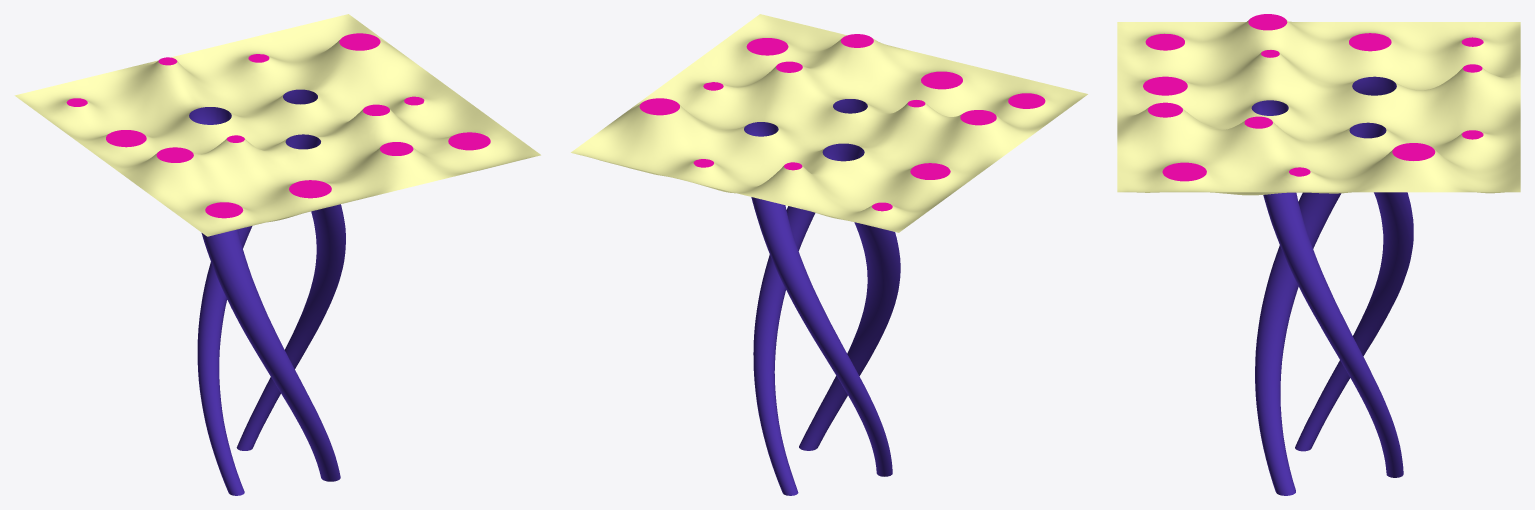
The model's file is Roof_03_columns_simple.fbx.
3 renders of one model, left to right at view 1: azimuth 30°, elevation 25°; view 2: azimuth 150°, elevation 25°; view 3: azimuth 270°, elevation 25°, orthographic. The views are drawn at different scales.
Parts seen in each view (by area): view 1: Roof_v3_columns_simple; view 2: Roof_v3_columns_simple; view 3: Roof_v3_columns_simple.
Part boxes in pixels (box(x1,y1,x2,y2)): Roof_v3_columns_simple: box(14, 14, 540, 495); Roof_v3_columns_simple: box(571, 14, 1087, 495); Roof_v3_columns_simple: box(1117, 14, 1520, 495).
Size of the model in its own units: 5 by 5.27 by 5.
